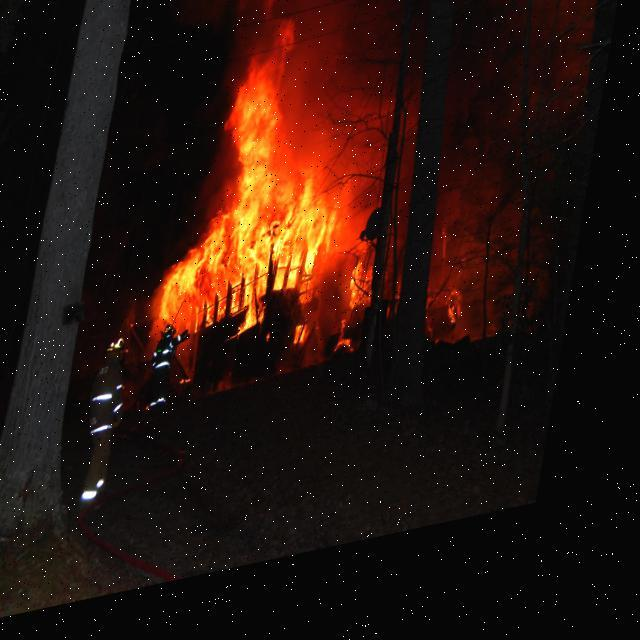Fire: (157, 16, 406, 370)
